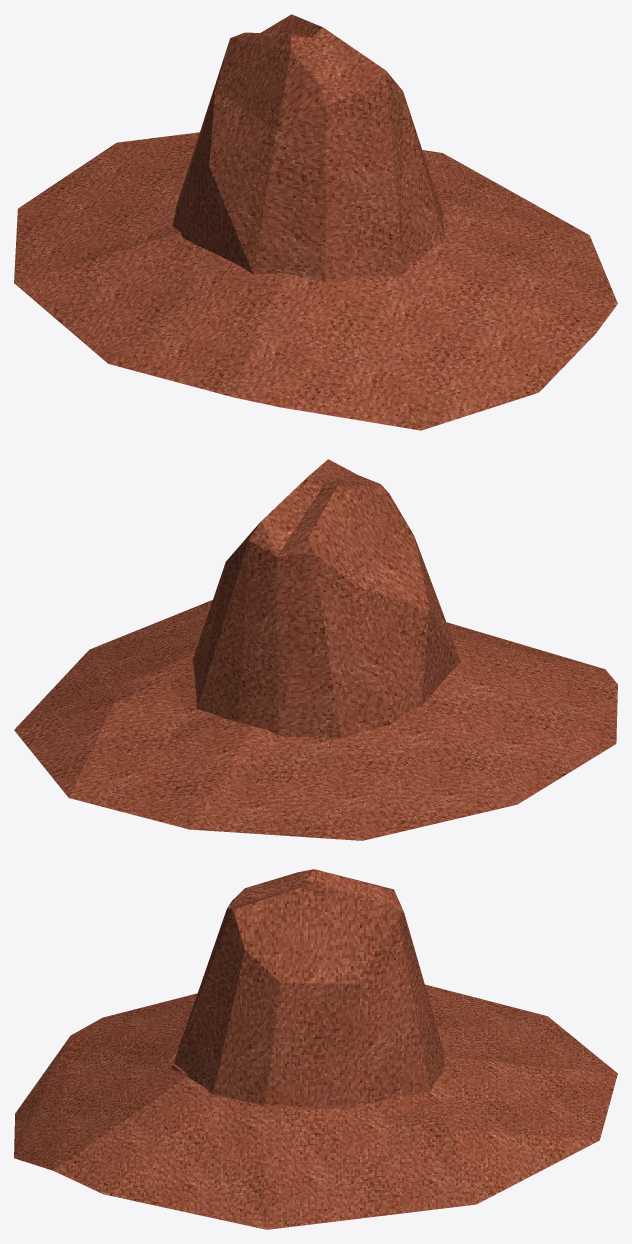
The model's file is hat.glb.
3 renders of one model, top to bottom at view 1: azimuth 30°, elevation 25°; view 2: azimuth 150°, elevation 25°; view 3: azimuth 270°, elevation 25°, orthographic. The views are drawn at different scales.
Visible parts, largest first — view 1: hat; view 2: hat; view 3: hat.
Part boxes in pixels (box(x1,y1,x2,y2)): hat: box(14, 14, 617, 430); hat: box(14, 459, 617, 840); hat: box(14, 869, 617, 1229).
Bounding box in the file's own units: 42.29 × 21.88 × 46.52.
Materials: 1 (1 with a texture image).
